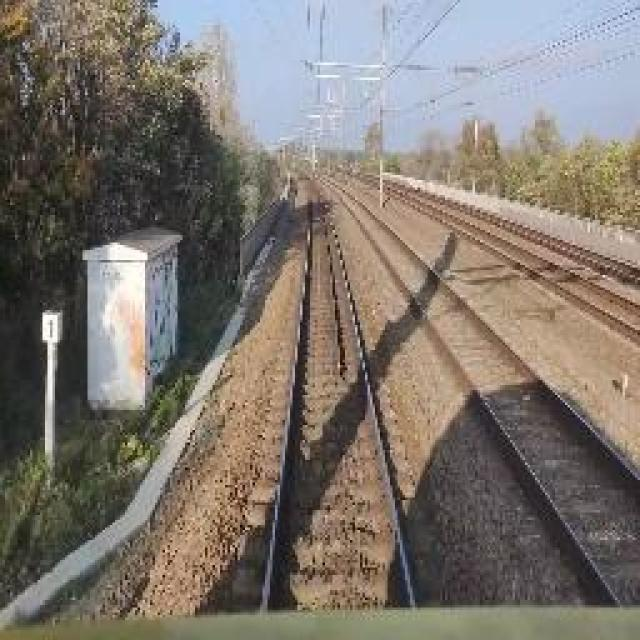rail: (223, 169, 445, 615)
